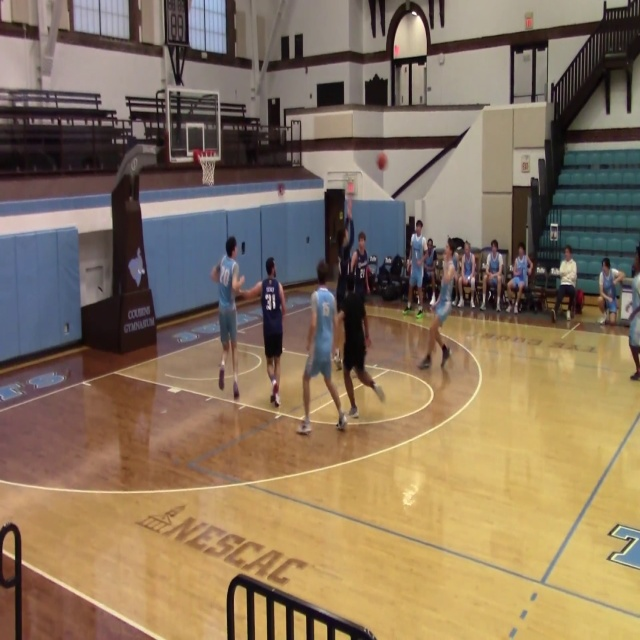Basketball: (377, 152, 388, 170), (346, 182, 355, 194)
